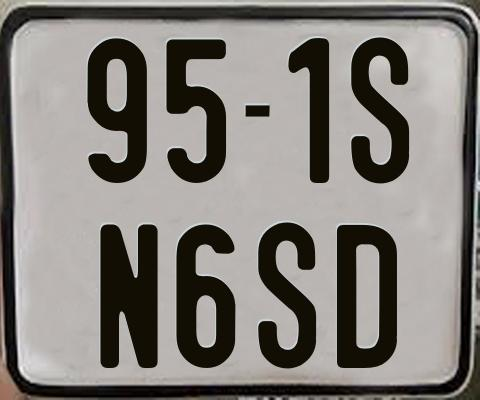1: (286, 38, 332, 189)
5: (166, 37, 229, 182)
6: (175, 222, 237, 371)
9: (85, 35, 145, 180)
D: (336, 224, 399, 368)
N: (100, 223, 163, 370)
S: (350, 35, 414, 183), (256, 220, 315, 372)
